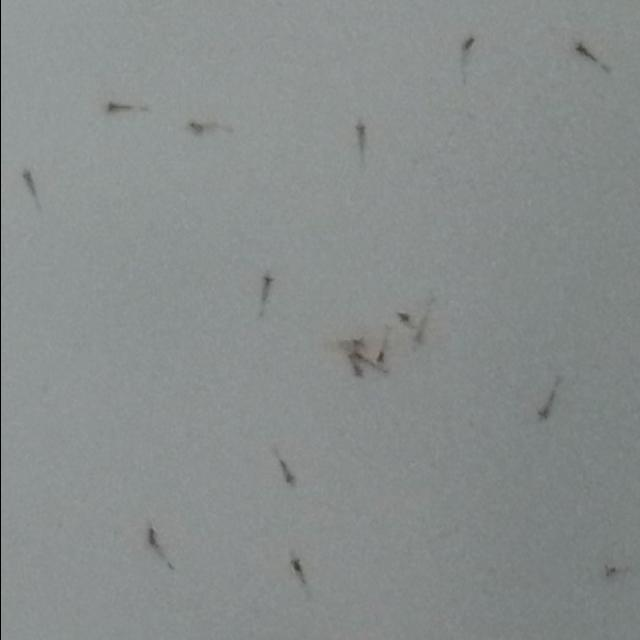shrimp-seed: (572, 36, 597, 66), (534, 394, 557, 424), (349, 118, 373, 146), (142, 522, 164, 552), (276, 458, 298, 486), (105, 95, 131, 118), (410, 323, 430, 352), (458, 32, 482, 56), (20, 169, 40, 197), (183, 116, 207, 138), (286, 556, 308, 580), (257, 272, 277, 298), (372, 343, 390, 368), (603, 560, 621, 582), (394, 310, 416, 328), (347, 348, 366, 366), (348, 364, 364, 382), (352, 334, 364, 348)
